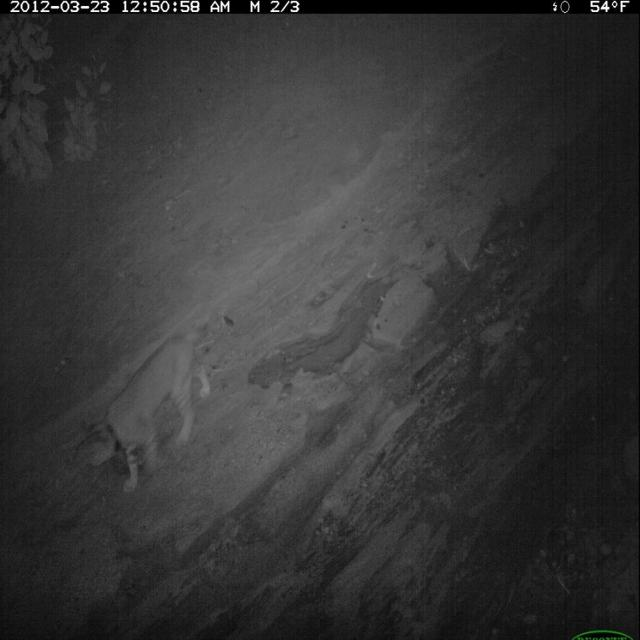bobcat: (79, 321, 214, 507)
